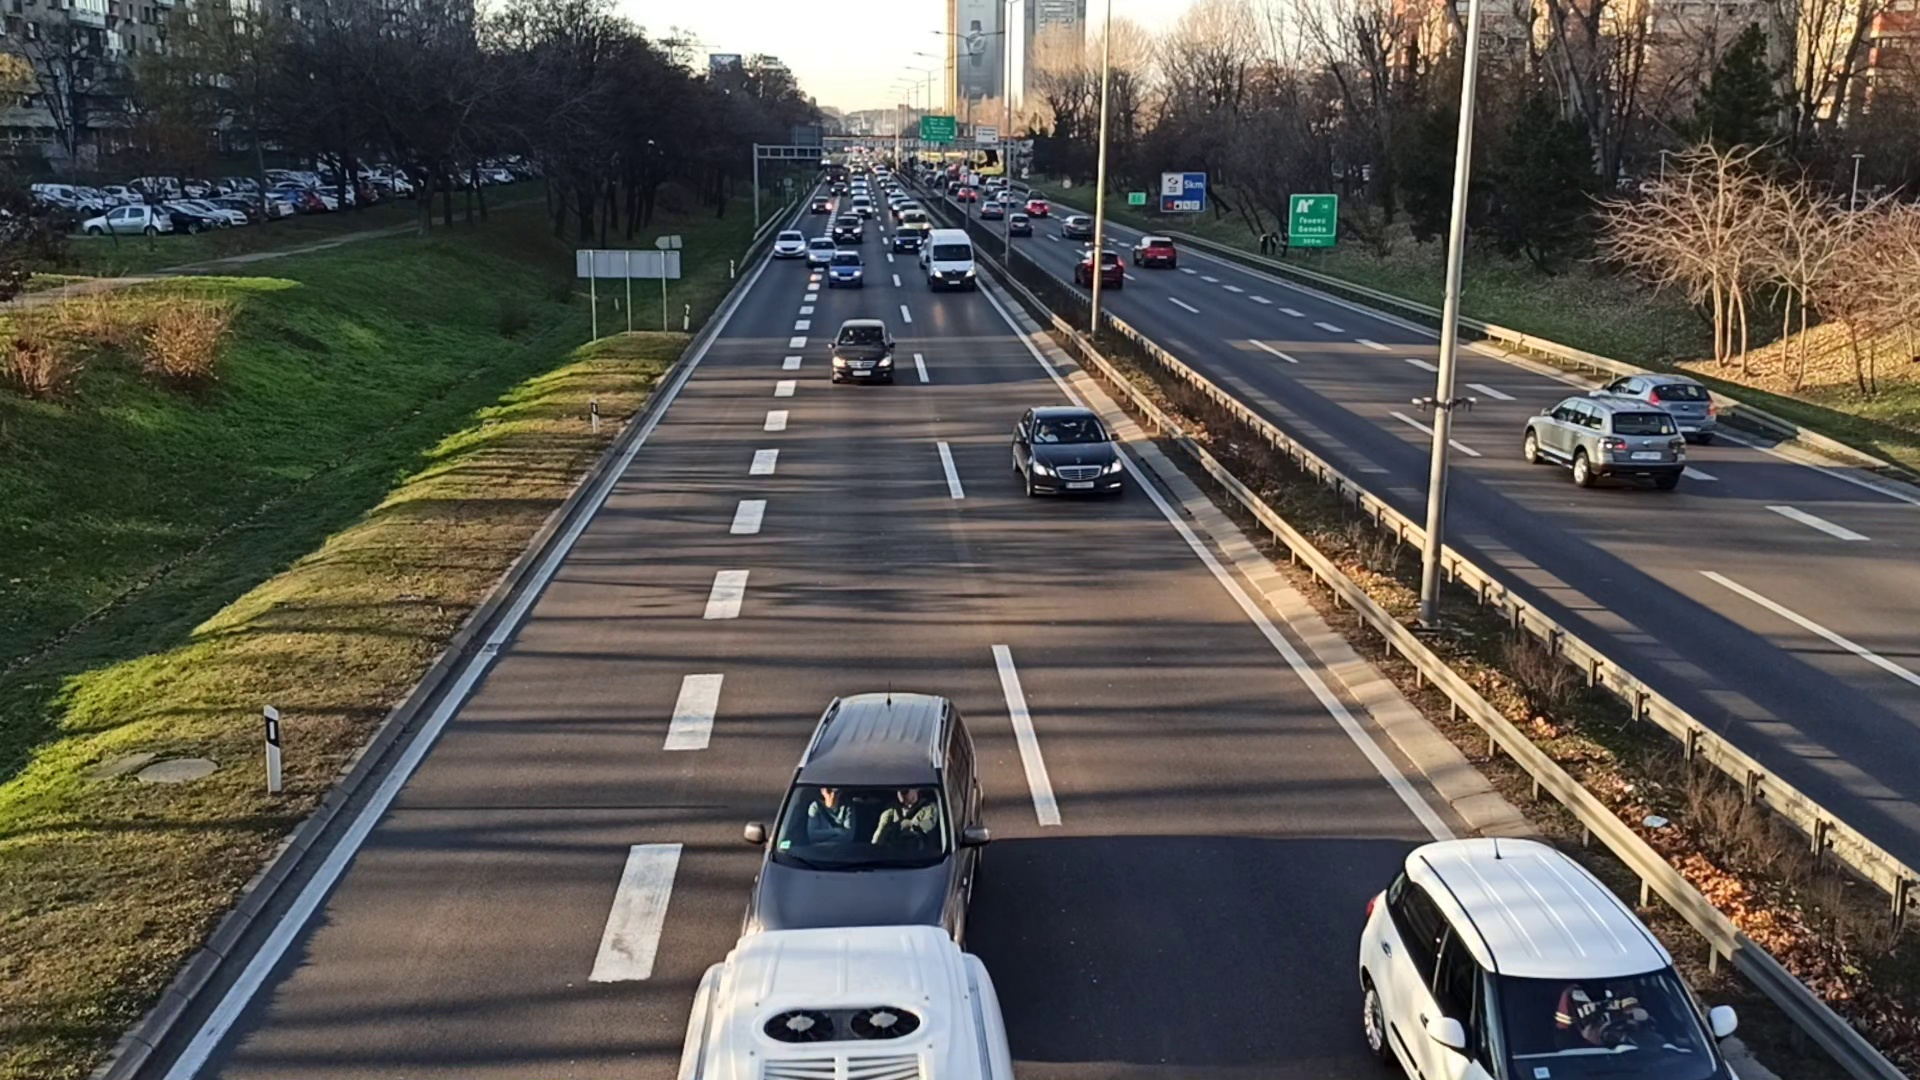car: (752, 694, 988, 944), (1523, 394, 1684, 496), (1010, 407, 1127, 504), (1604, 368, 1720, 442), (833, 316, 893, 381), (1077, 249, 1124, 287), (1131, 236, 1178, 266), (829, 251, 860, 289), (775, 229, 806, 258), (807, 237, 835, 266), (833, 216, 862, 239), (894, 229, 922, 252)
van: (920, 228, 978, 294)
